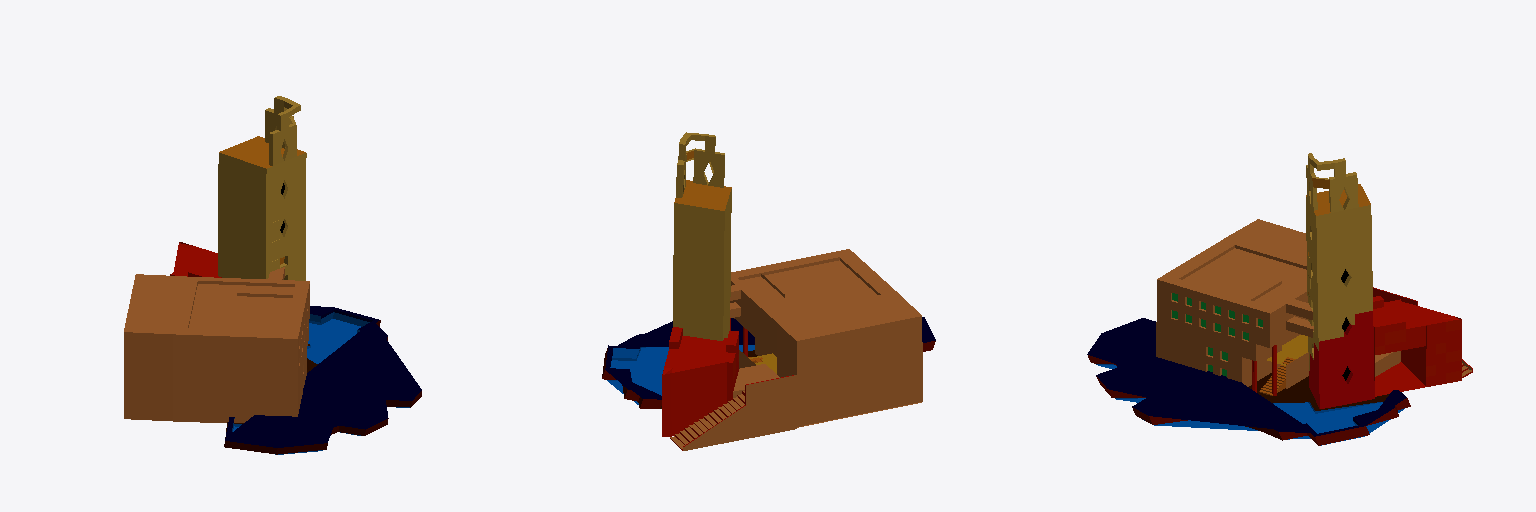
The model's file is buildingswithsun.obj.
The picture shows the model from 3 angles: view 1: azimuth 30°, elevation 25°; view 2: azimuth 150°, elevation 25°; view 3: azimuth 270°, elevation 25°; orthographic projection.
Visible parts, largest first — view 1: Cube.002; view 2: Cube.002; view 3: Cube.002.
Part boxes in pixels (bbox=[...]): Cube.002: bbox=[124, 96, 421, 454]; Cube.002: bbox=[602, 132, 935, 450]; Cube.002: bbox=[1087, 153, 1472, 445].
Bounding box in the file's own units: 317 × 258 × 369.